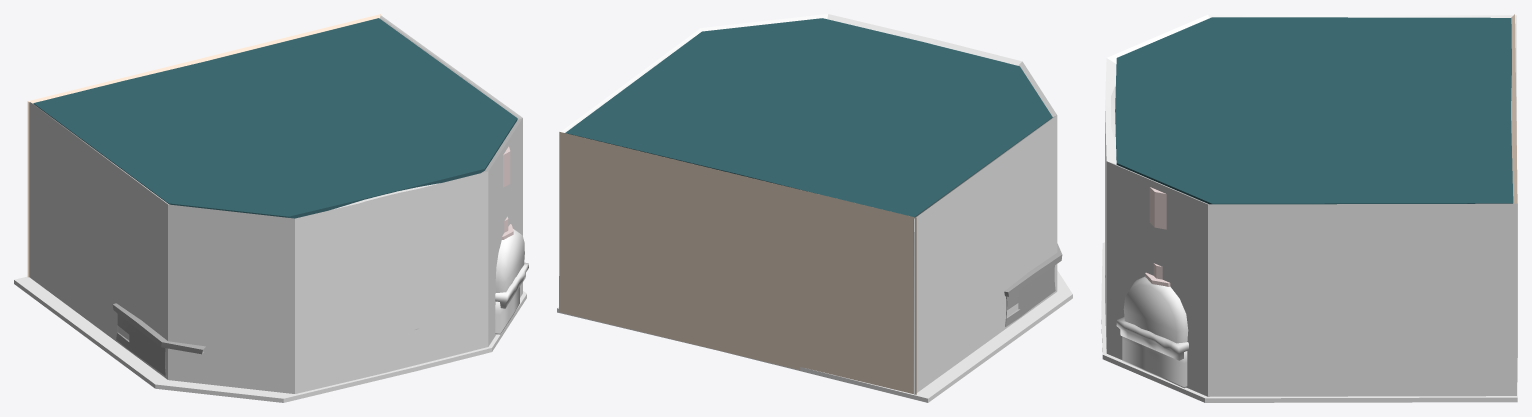
The model's file is kitchen11.fbx.
The picture shows the model from 3 angles, left to right: view 1: azimuth 30°, elevation 25°; view 2: azimuth 150°, elevation 25°; view 3: azimuth 270°, elevation 25°; orthographic projection. The views are drawn at different scales.
Visible parts, largest first — view 1: floor.001, pasted__wall1, wall1, floor, fire_brick.001, pasted__storage_R__1_, wall2.001; view 2: wall2.001, floor.001, wall1, floor, pasted__storage_R__1_, pasted__wall1; view 3: floor.001, pasted__wall1, wall1, fire_brick.001, floor, wall2.001.
Part boxes in pixels (bbox=[...]): floor.001: bbox=[33, 18, 517, 218]; pasted__wall1: bbox=[160, 81, 522, 393]; wall1: bbox=[29, 15, 522, 393]; floor: bbox=[14, 276, 526, 402]; fire_brick.001: bbox=[495, 146, 528, 334]; pasted__storage_R__1_: bbox=[112, 303, 205, 376]; wall2.001: bbox=[27, 14, 380, 277]; wall2.001: bbox=[559, 132, 916, 394]; floor.001: bbox=[565, 18, 1052, 217]; wall1: bbox=[561, 14, 1057, 394]; floor: bbox=[557, 270, 1072, 402]; pasted__storage_R__1_: bbox=[1004, 243, 1062, 326]; pasted__wall1: bbox=[673, 14, 1056, 116]; floor.001: bbox=[1115, 17, 1513, 204]; pasted__wall1: bbox=[1105, 15, 1516, 396]; wall1: bbox=[1105, 14, 1516, 396]; fire_brick.001: bbox=[1116, 187, 1188, 388]; floor: bbox=[1101, 242, 1517, 402]; wall2.001: bbox=[1511, 14, 1517, 396].
Bounding box in the file's own units: 4449 × 2091 × 3938.
